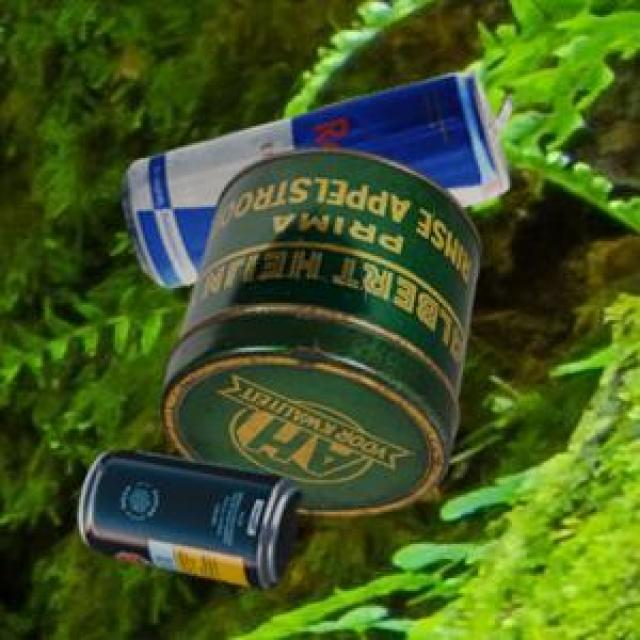metal: (119, 73, 512, 521), (162, 156, 480, 521), (77, 450, 303, 593)
